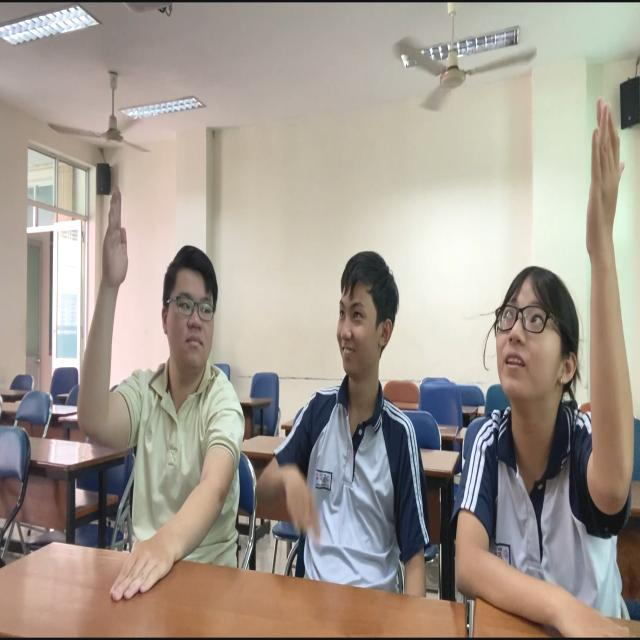raise_hand: (443, 92, 640, 637), (74, 191, 247, 615)
